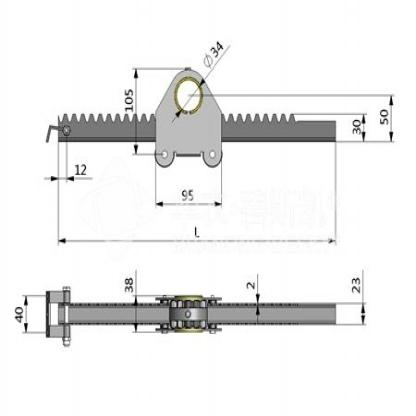FOD: (55, 110, 338, 146)
